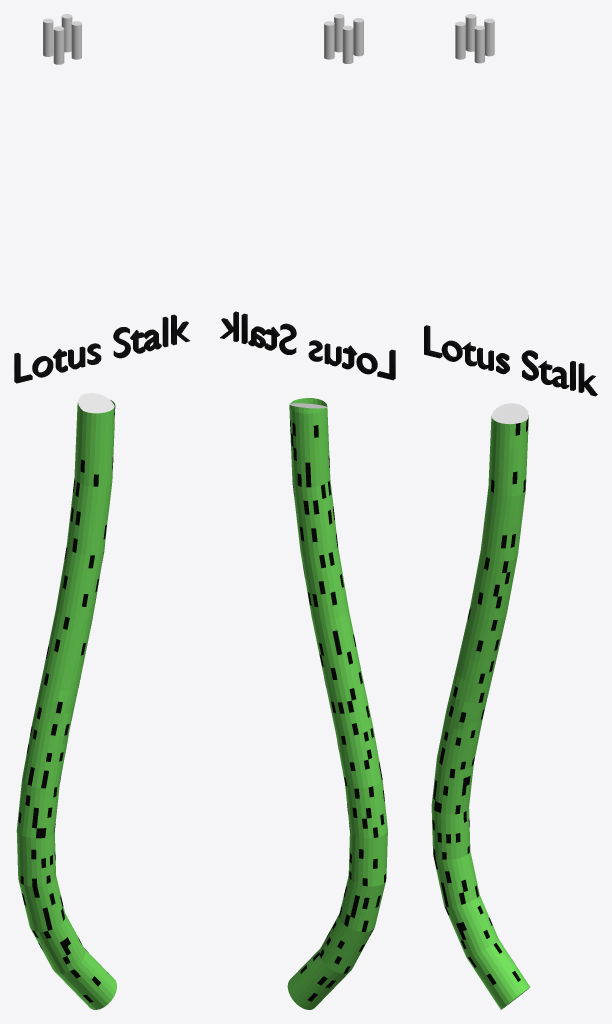
File: Lotus stalk.gltf
The picture shows the model from 3 angles, left to right: view 1: azimuth 30°, elevation 25°; view 2: azimuth 150°, elevation 25°; view 3: azimuth 330°, elevation 25°; orthographic projection.
Parts seen in each view (by area): view 1: BezierCurve, Text, Cylinder.003; view 2: BezierCurve, Text, Cylinder.002; view 3: BezierCurve, Text.
Boxes of the visible parts, bbox=[...] form: BezierCurve: bbox=[16, 393, 116, 1009]; Text: bbox=[14, 314, 189, 383]; Cylinder.003: bbox=[53, 26, 64, 64]; BezierCurve: bbox=[287, 398, 387, 1009]; Text: bbox=[220, 311, 395, 380]; Cylinder.002: bbox=[342, 25, 353, 63]; BezierCurve: bbox=[431, 403, 529, 1009]; Text: bbox=[424, 325, 597, 396].
Bounding box in the file's own units: 0.6381 × 3.48 × 0.1217.
